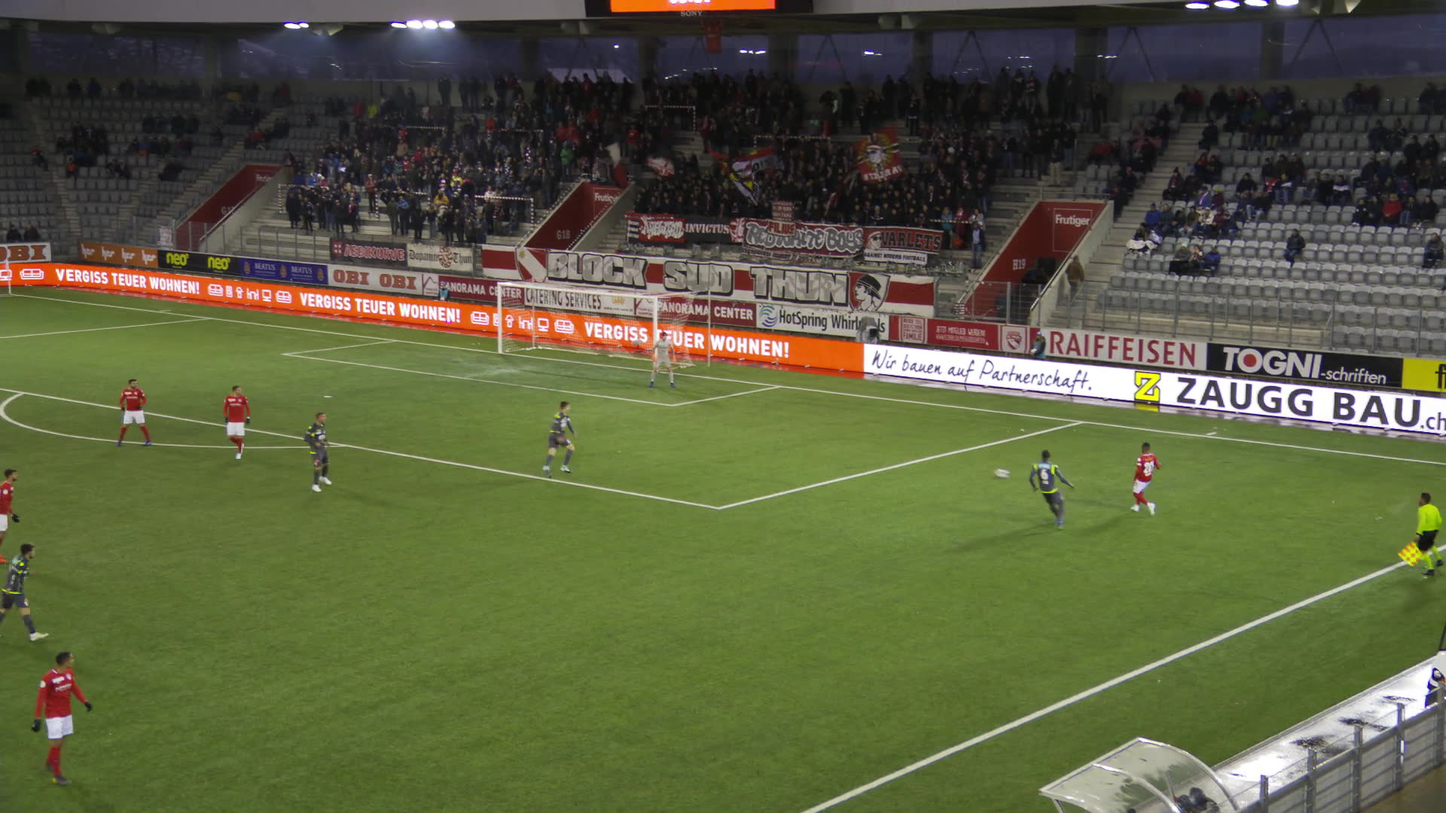ball: (992, 466, 1011, 480)
player: (29, 645, 97, 790), (0, 541, 50, 643), (1025, 445, 1074, 532), (538, 399, 578, 480), (1125, 440, 1164, 520), (114, 376, 153, 448), (218, 382, 253, 461), (301, 410, 332, 492), (642, 329, 679, 390), (0, 465, 22, 565)
referee: (1396, 490, 1444, 580)
